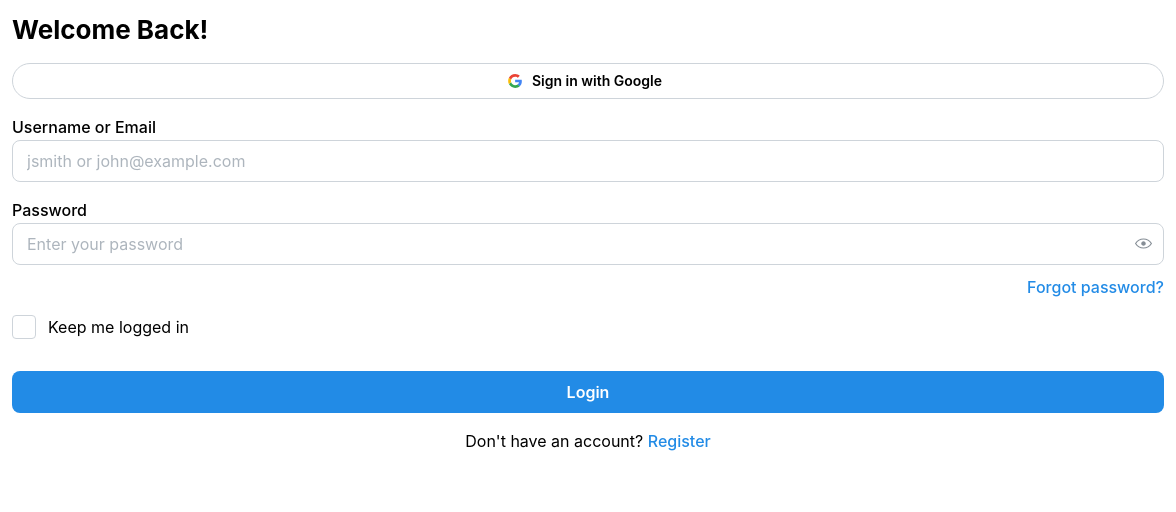
Test: LoginForm › Login Form Functionality › Form Validation › Clears validation errors when user corrects invalid input
The image size is (1176, 512).
# First submit with invalid input
Click the button "Login" at (588, 392), box [12, 372, 1164, 414]
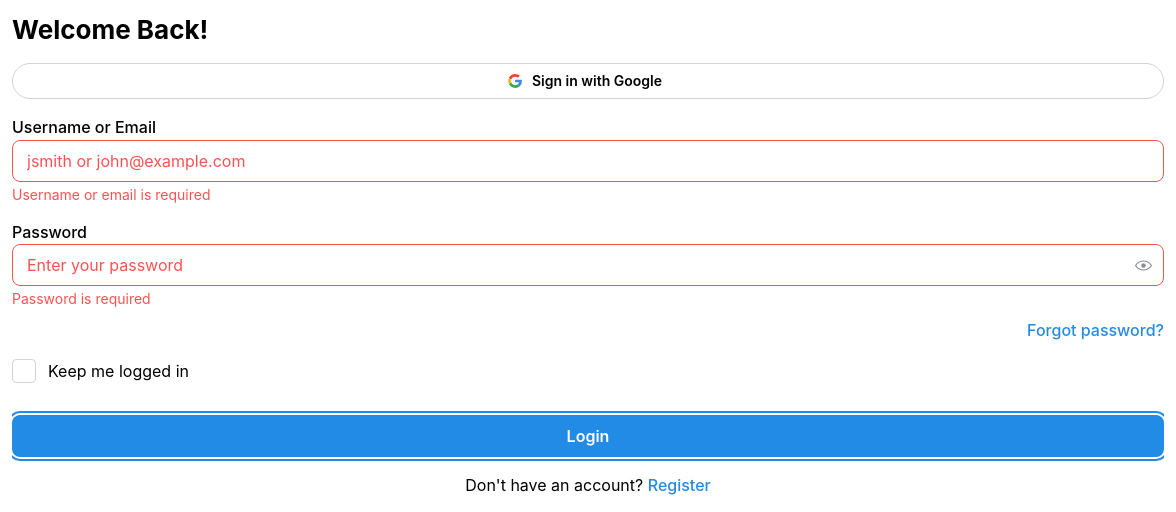
Expected: the text "Username or email is required" is shown, [12, 186, 210, 203]
Expected: the text "Password is required" is shown, [12, 290, 151, 308]
# Now fill in valid input
Type "validUser" into the field labelled "Username or Email" at (588, 161), box [12, 140, 1164, 182]
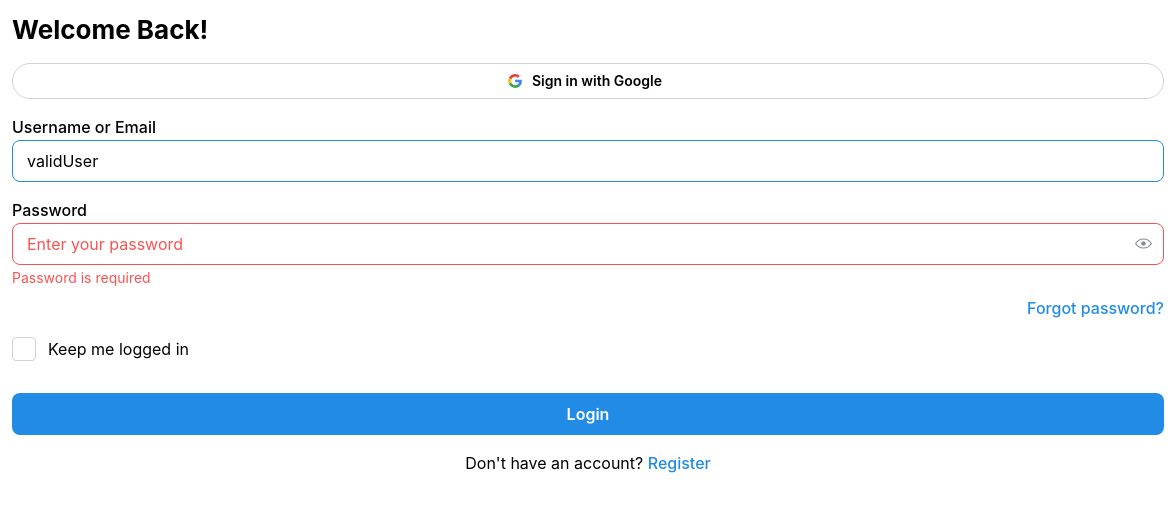
Type "validPassword123" into the password field labelled "Password" at (588, 244), box [13, 224, 1163, 264]
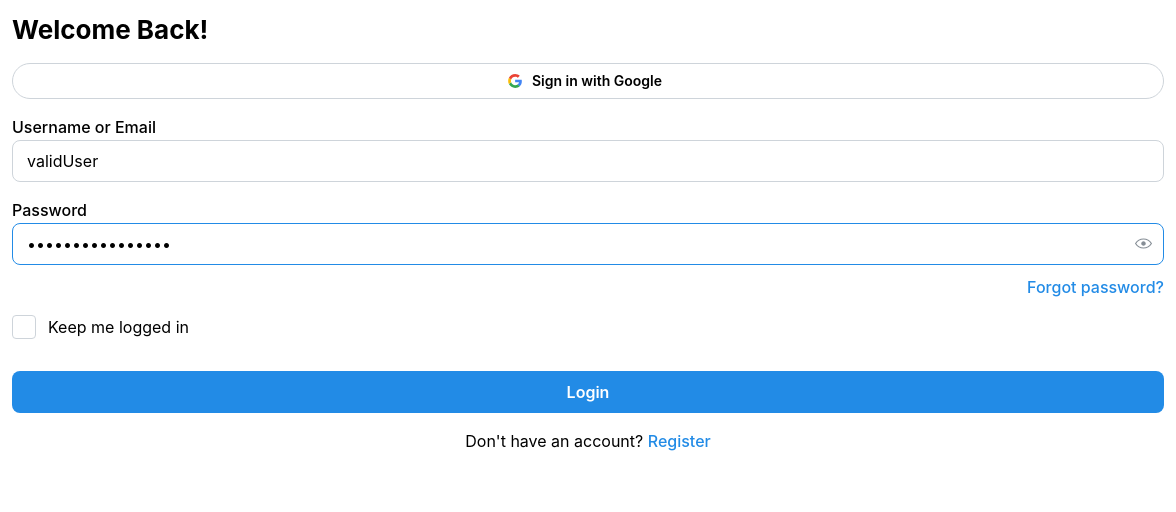
Expected: the text "Username or email is required" is not shown
Expected: the text "Password is required" is gone
